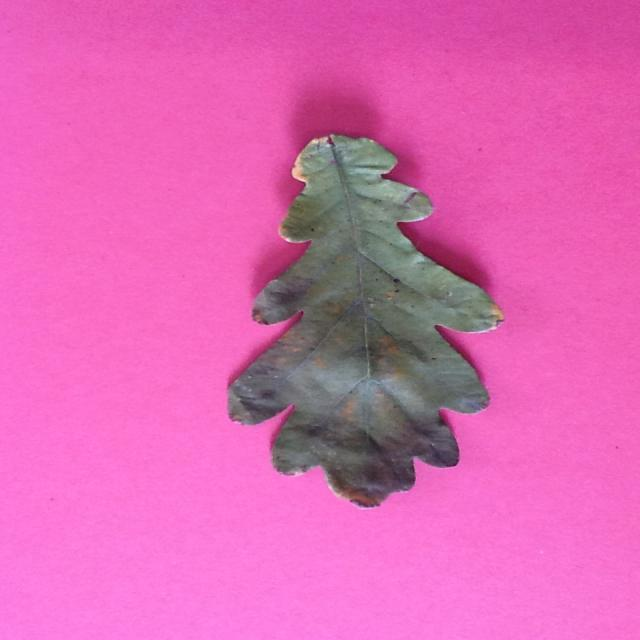foliage: (220, 128, 507, 510)
